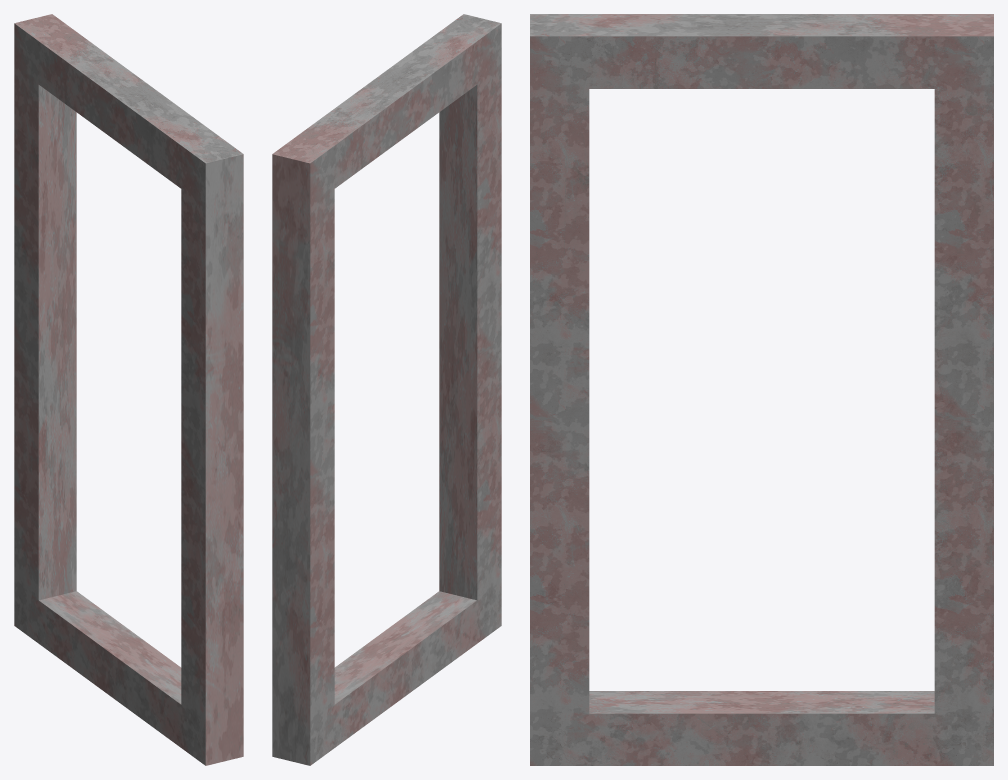
File: ramka.fbx
The picture shows the model from 3 angles, left to right: view 1: azimuth 30°, elevation 25°; view 2: azimuth 150°, elevation 25°; view 3: azimuth 270°, elevation 25°; orthographic projection. The views are drawn at different scales.
Parts seen in each view (by area): view 1: Cube.008; view 2: Cube.008; view 3: Cube.008.
Part boxes in pixels (box(x1,y1,x2,y2)): Cube.008: box(14, 14, 243, 765); Cube.008: box(272, 14, 501, 765); Cube.008: box(530, 14, 993, 765).
Bounding box in the file's own units: 40 × 605 × 349.
Materials: 1 (1 with a texture image).
